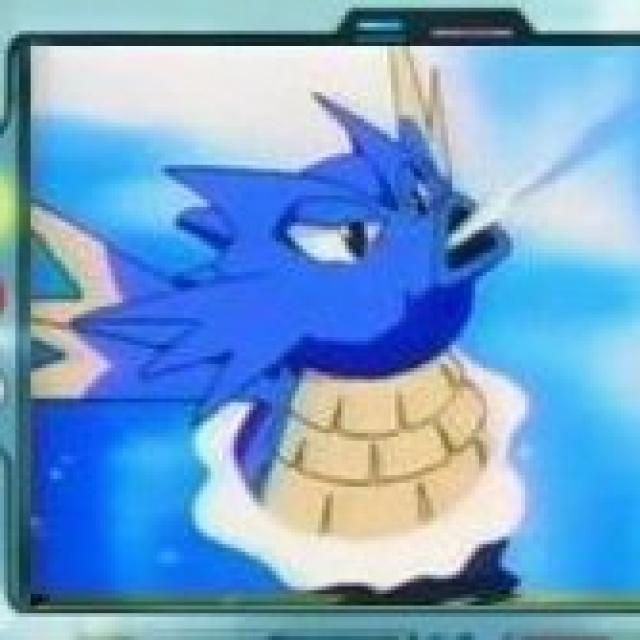Seadra: (108, 80, 505, 593)
